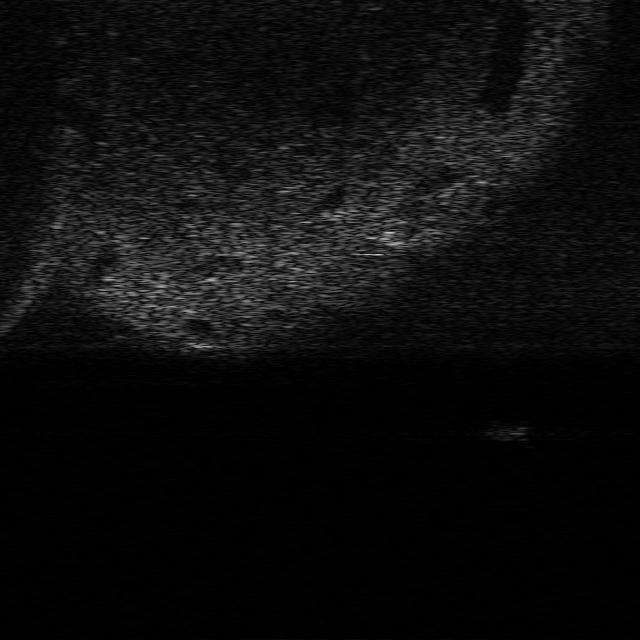cube: (484, 418, 530, 442)
